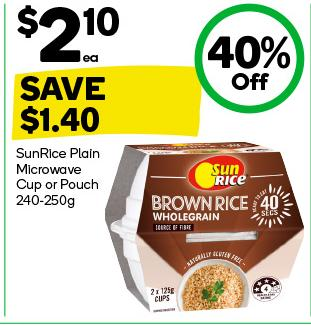description_block: (10, 144, 103, 212)
price_main: (10, 2, 131, 68)
product_image_block: (103, 140, 307, 314)
promo_text_block: (10, 72, 203, 139)
